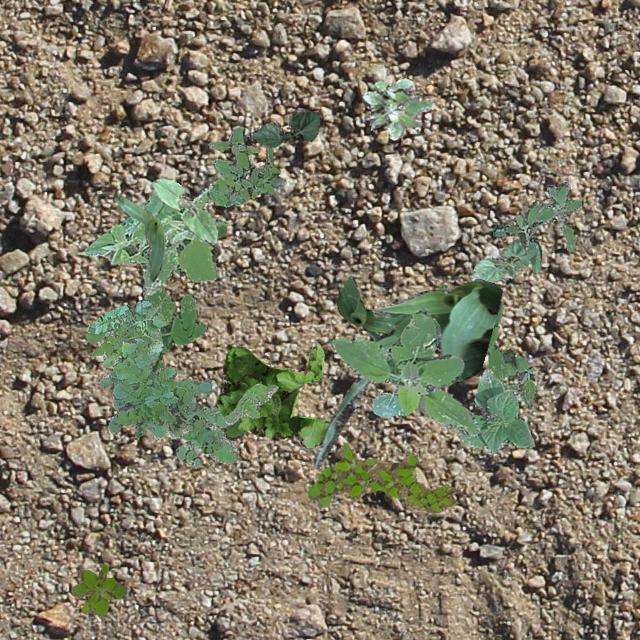crop: (312, 278, 502, 468), (458, 368, 534, 453), (150, 178, 217, 244), (114, 192, 164, 280), (336, 274, 402, 338), (247, 108, 321, 146), (471, 238, 528, 280)
weed: (85, 298, 222, 452), (330, 308, 480, 436), (84, 172, 235, 294), (438, 284, 536, 408), (215, 343, 328, 448), (144, 382, 278, 468), (306, 442, 454, 512), (492, 180, 582, 272), (142, 284, 204, 382), (207, 126, 284, 204), (362, 78, 432, 138), (70, 564, 126, 616)
